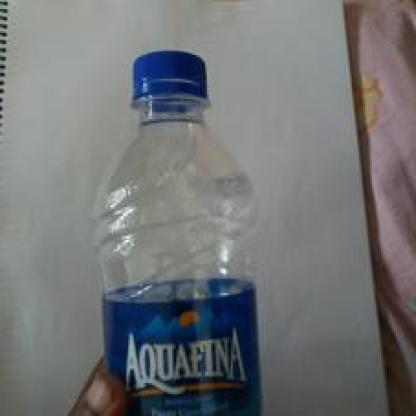bottle: (82, 35, 282, 414)
